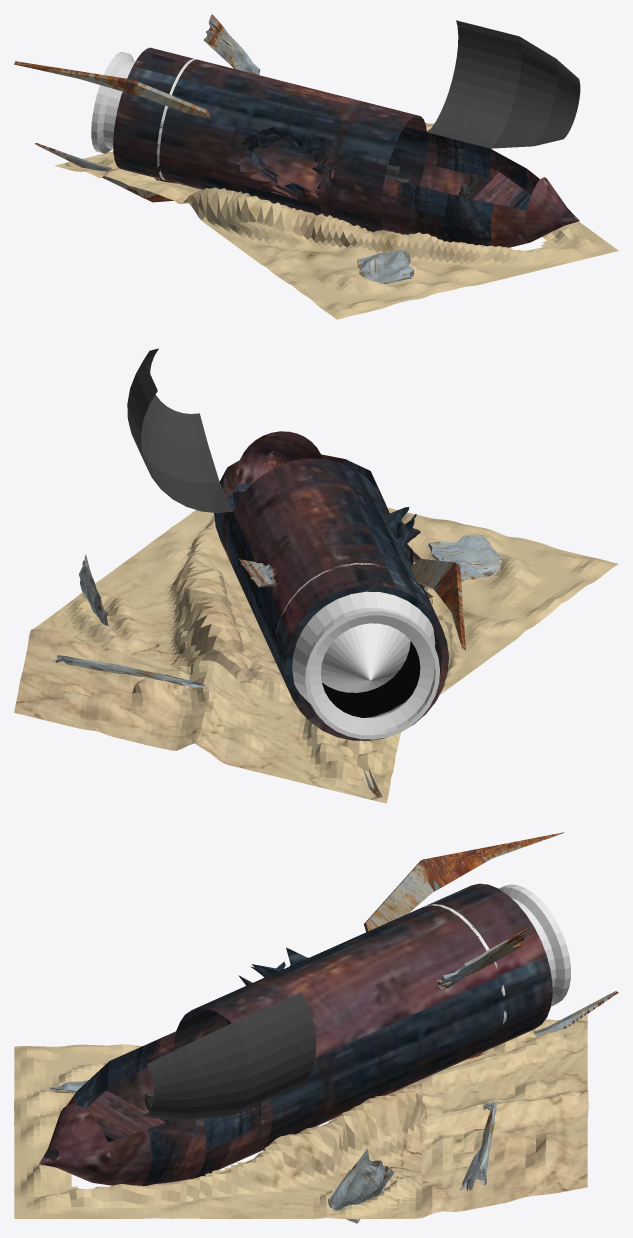
File: ship_wreckage.fbx
3 views of the same model, one above another, from view 1: azimuth 30°, elevation 25°; view 2: azimuth 150°, elevation 25°; view 3: azimuth 270°, elevation 25° (orthographic). The views are drawn at different scales.
Visible parts, largest first — view 1: Cylinder, Plane, Cylinder.002, Cube.001, Cylinder.005, Cube.002, Cylinder.003; view 2: Plane, Cylinder, Cube.001, Cylinder.002, Cylinder.004, Cube, Cylinder.005; view 3: Cylinder, Plane, Cylinder.002, Cube, Cube.002, Cylinder.005, Cylinder.004, Cylinder.003.
Boxes of the visible parts, x1,y1,x2,y2 form: Cylinder: (91, 20, 580, 247); Plane: (55, 122, 618, 319); Cylinder.002: (14, 61, 210, 118); Cube.001: (357, 250, 414, 283); Cylinder.005: (203, 14, 260, 75); Cube.002: (473, 172, 527, 208); Cylinder.003: (35, 143, 175, 202); Plane: (14, 507, 618, 803); Cylinder: (127, 348, 448, 740); Cube.001: (428, 534, 502, 582); Cylinder.002: (410, 558, 465, 650); Cylinder.004: (55, 655, 207, 688); Cube: (79, 554, 108, 625); Cylinder.005: (239, 559, 278, 587); Cylinder: (39, 883, 570, 1185); Plane: (14, 1015, 588, 1218); Cylinder.002: (364, 832, 563, 932); Cube: (328, 1148, 394, 1223); Cube.002: (86, 1091, 164, 1142); Cylinder.005: (436, 927, 529, 989); Cylinder.004: (459, 1101, 497, 1191); Cylinder.003: (468, 991, 618, 1058).
Size of the model in its own units: 3264 by 1401 by 3396.
